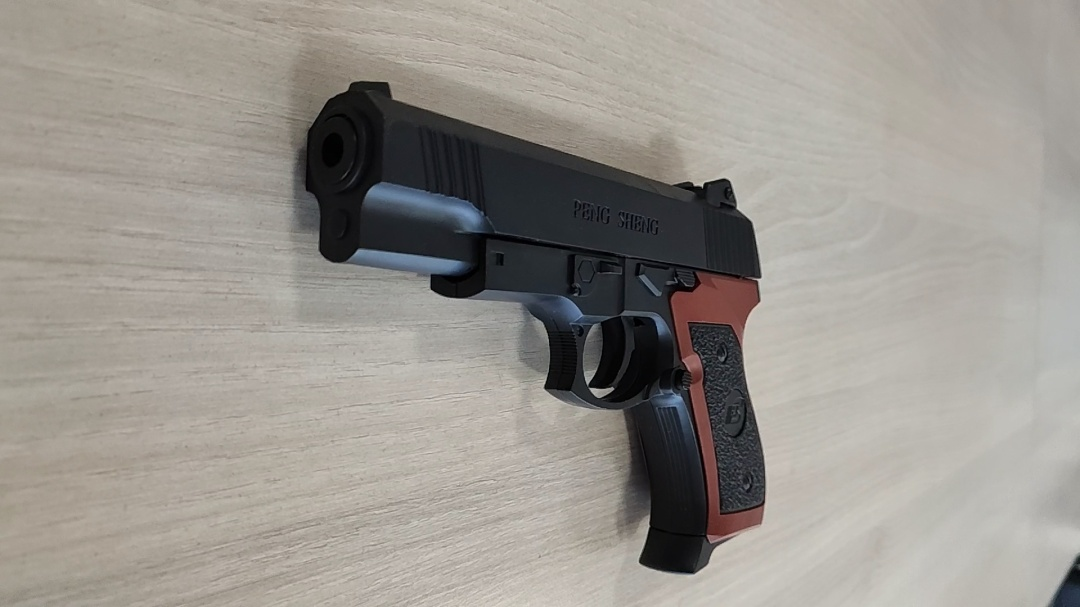gun: (303, 81, 774, 575)
